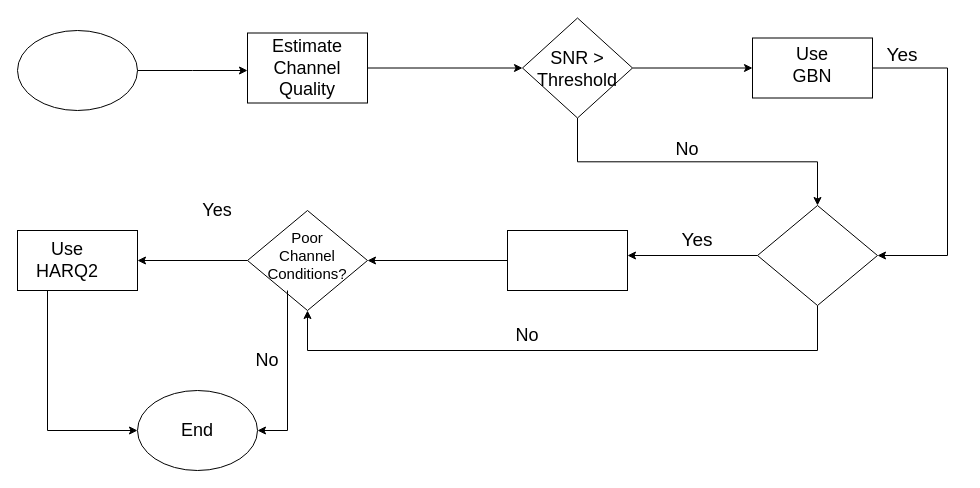
Some shapes in this 980 by 488 pixel diagram are drawn without their labels. The box of each missing label's shape, as (x1, y1, x2, y2) in pixels:
Moderate Channel Conditions?: (756, 204, 878, 306)
Start: (16, 30, 138, 110)
Use HARQ1: (506, 230, 628, 290)
